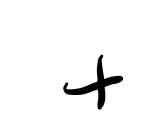plus: (62, 54, 122, 109)
